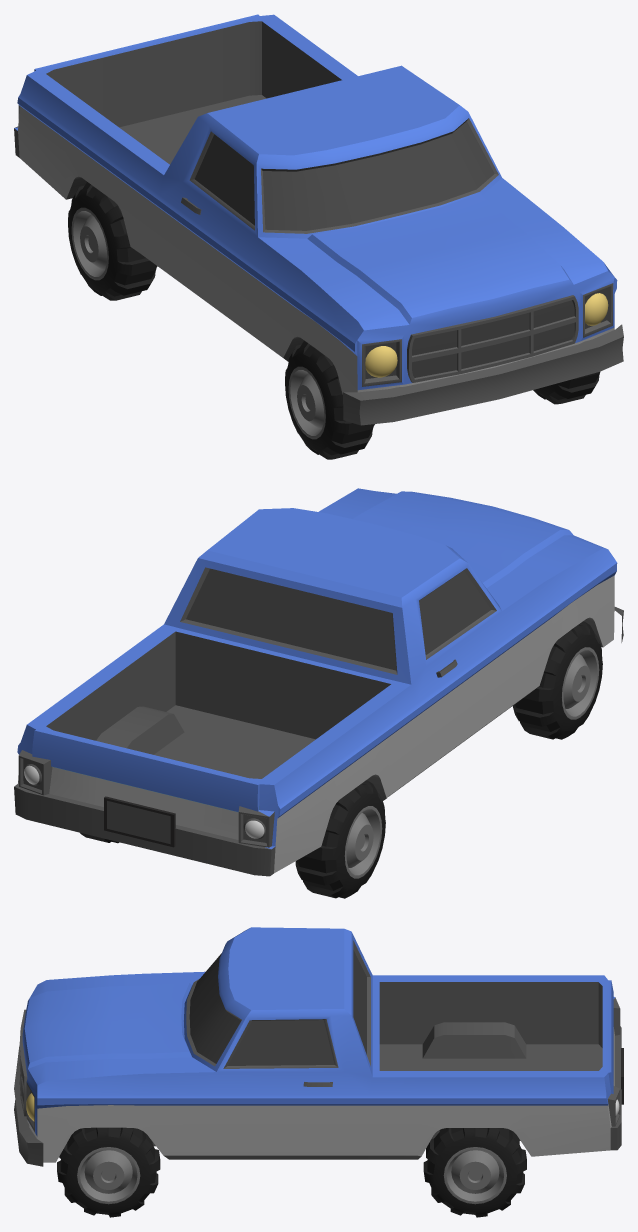
File: Truck.glb
3 views of the same model, one above another, from view 1: azimuth 30°, elevation 25°; view 2: azimuth 150°, elevation 25°; view 3: azimuth 270°, elevation 25° (orthographic). The views are drawn at different scales.
Visible parts, largest first — view 1: Pickup, Skin, BackWheels, Wheel_R, Wheel_L; view 2: Pickup, Skin, BackWheels, Wheel_R; view 3: Pickup, Skin, BackWheels, Wheel_L.
Boxes of the visible parts, x1,y1,x2,y2 form: Pickup: (14, 21, 623, 425); Skin: (14, 14, 617, 390); BackWheels: (68, 182, 157, 300); Wheel_R: (285, 340, 374, 459); Wheel_L: (533, 372, 600, 404); Pickup: (14, 567, 623, 876); Skin: (17, 488, 617, 849); BackWheels: (80, 780, 385, 898); Wheel_R: (512, 621, 602, 739); Pickup: (14, 940, 623, 1166); Skin: (22, 927, 614, 1136); BackWheels: (423, 1128, 526, 1217); Wheel_L: (57, 1127, 160, 1217).
Size of the model in its own units: 2.31 by 1.85 by 5.18.
4 materials, 1 textured.
